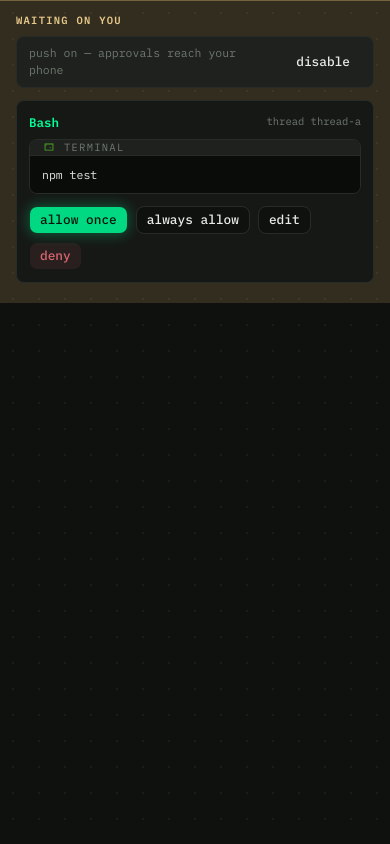
ApprovalQueue › shows the unsubscribe toggle when already subscribed (W10-#8)
Expected: the text "Bash" is shown, [29,113,59,131]
Click the button "disable": (323, 62) [285,48,361,76]
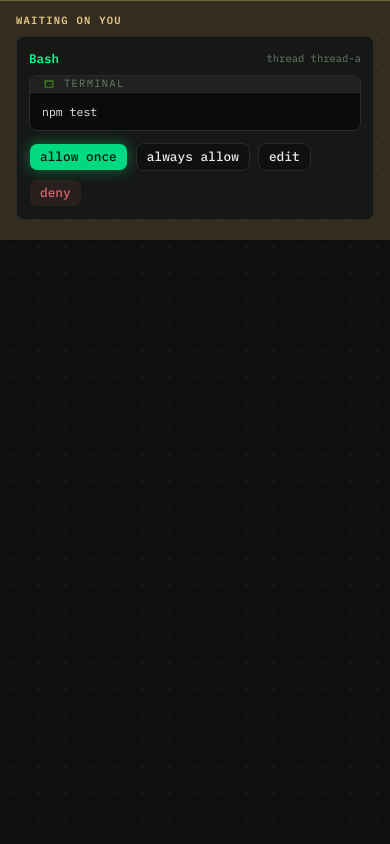
Result: the element with test id "push-on" is gone
